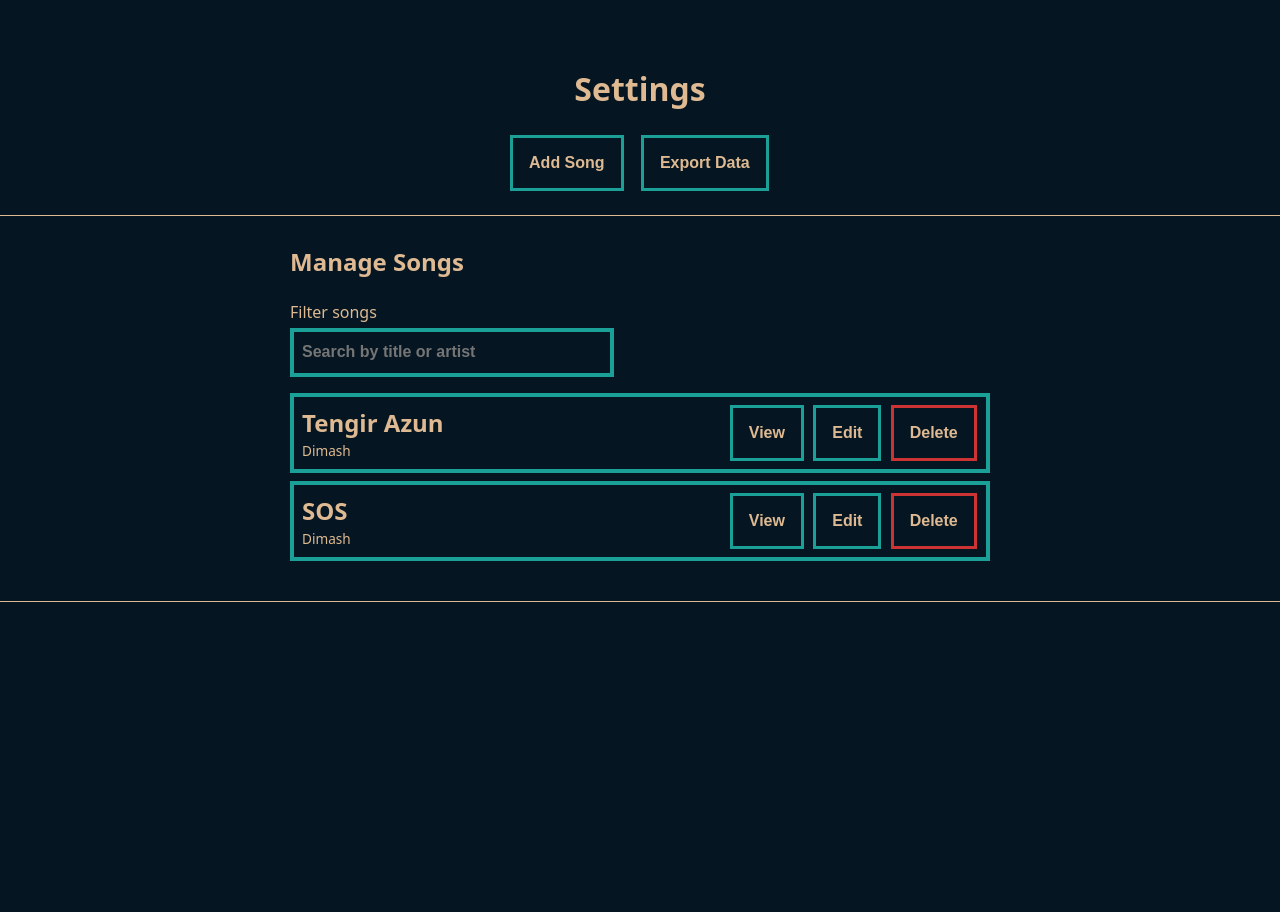
Scenario: Settings Page › shows an add-lyrics form without a cancel when the song has no lyrics
Check: the text "Tengir Azun" is shown, box [302,405,444,441]
Step 1. Click the button "Edit" in the row of "Tengir Azun" → [847, 433], box [813,405,881,461]
(page scrolled)
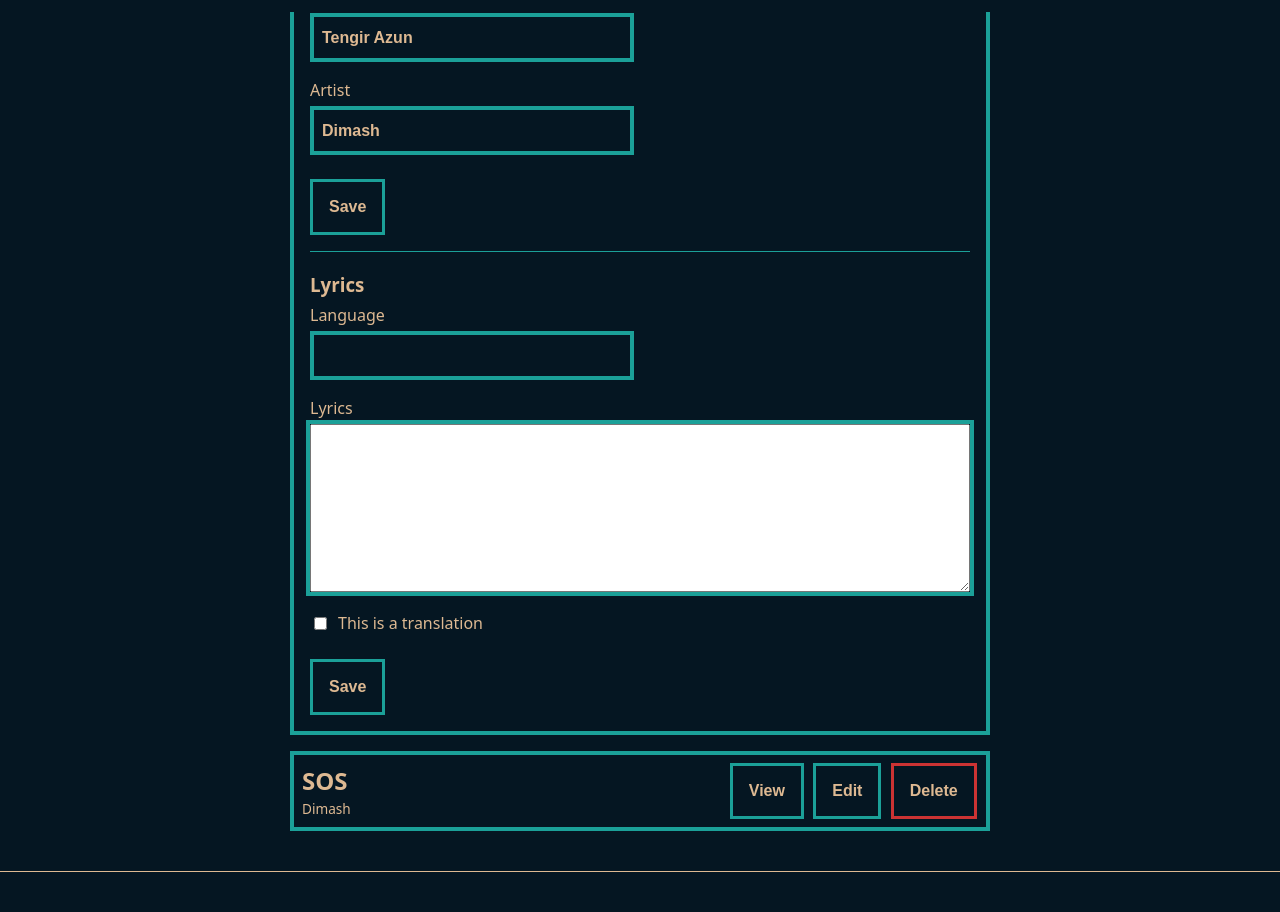
Check: the field labelled "Language" is shown, box [310,331,634,380]
Check: the text box labelled "Lyrics" is shown, box [310,424,970,592]
